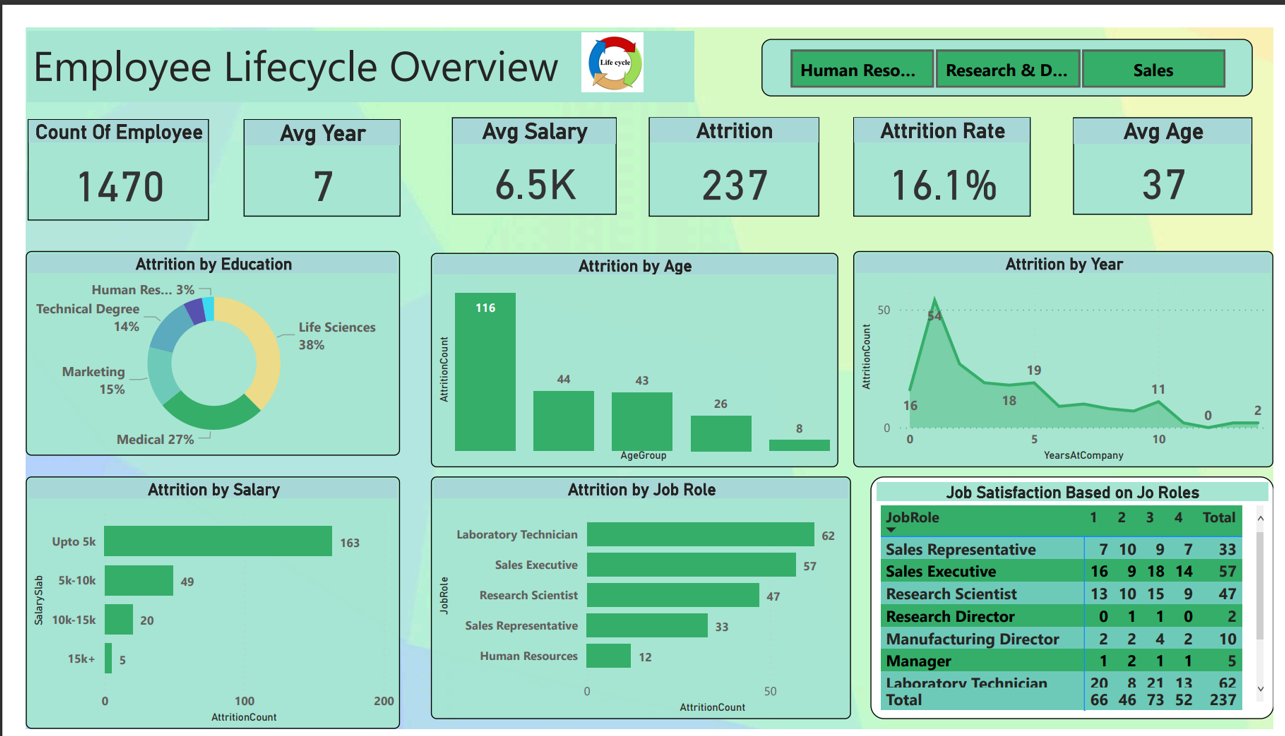

The dashboard page shown, as its layout file describes it:
{"tool":"powerbi","page":{"name":"Page 1","canvas":[1280,720],"ordinal":0},"visuals":[{"type":"card","title":"Count Of Employee","fields":{"Values":["Count(HR_Analytics.EmpID)"]},"box":[2,94.1,186.3,103.9],"z":0},{"type":"card","title":"Avg Year","fields":{"Values":["Avg(HR_Analytics.YearsAtCompany)"]},"box":[223.5,94.1,160.8,100],"z":1000},{"type":"card","title":"Attrition","fields":{"Values":["Sum(HR_Analytics.AttritionCount)"]},"box":[639.2,92.2,174.5,102],"z":2000},{"type":"card","title":"Attrition Rate","fields":{"Values":["HR_Analytics.AttritionRate"]},"box":[849,92.2,182.4,102],"z":3000},{"type":"card","title":"Avg Age","fields":{"Values":["Avg(HR_Analytics.Age)"]},"box":[1074.5,92.2,184.3,100],"z":4000},{"type":"card","title":"Avg Salary","fields":{"Values":["Avg(HR_Analytics.MonthlyIncome)"]},"box":[437.3,92.2,168.6,100],"z":5000},{"type":"donutChart","title":"Attrition by Education","fields":{"Category":["HR_Analytics.EducationField"],"Y":["Sum(HR_Analytics.AttritionCount)"]},"box":[0,229.4,384.3,209.8],"z":6000},{"type":"columnChart","title":"Attrition by Age","fields":{"Category":["HR_Analytics.AgeGroup"],"Y":["Sum(HR_Analytics.AttritionCount)"]},"box":[415.7,231.4,417.6,219.6],"z":7000},{"type":"barChart","title":"Attrition by Salary","fields":{"Category":["HR_Analytics.SalarySlab"],"Y":["Sum(HR_Analytics.AttritionCount)"]},"box":[0,460.8,384.3,258.8],"z":8000},{"type":"clusteredBarChart","title":"Attrition by Job Role","fields":{"Category":["HR_Analytics.JobRole"],"Y":["Sum(HR_Analytics.AttritionCount)"]},"box":[415.7,460.8,431.4,249],"z":9000},{"type":"pivotTable","title":"Job Satisfaction Based on Jo Roles","fields":{"Rows":["HR_Analytics.JobRole"],"Columns":["HR_Analytics.JobSatisfaction"],"Values":["Sum(HR_Analytics.AttritionCount)"]},"box":[866.7,460.8,413.7,249],"z":10000},{"type":"areaChart","title":"Attrition by Year","fields":{"Category":["HR_Analytics.YearsAtCompany"],"Y":["Sum(HR_Analytics.AttritionCount)"]},"box":[849,229.4,431.4,221.6],"z":10001},{"type":"textbox","box":[2,3.9,684.3,72.5],"z":10002},{"type":"slicer","fields":{"Values":["HR_Analytics.Department"]},"box":[754.9,11.8,503.9,58.8],"z":10003},{"type":"image","box":[476.5,0,251,70.6],"z":10004}]}

Visuals, with their boxes in screenshot pixels (x1, y1, x2, y2), scaled from the page's 1280x720 canvas onto the 1285x736 screenshot:
"Count Of Employee" card: rect(2, 96, 189, 202)
"Avg Year" card: rect(224, 96, 386, 198)
"Attrition" card: rect(642, 94, 817, 199)
"Attrition Rate" card: rect(852, 94, 1035, 199)
"Avg Age" card: rect(1079, 94, 1264, 196)
"Avg Salary" card: rect(439, 94, 608, 196)
"Attrition by Education" donutChart: rect(0, 234, 386, 449)
"Attrition by Age" columnChart: rect(417, 237, 837, 461)
"Attrition by Salary" barChart: rect(0, 471, 386, 735)
"Attrition by Job Role" clusteredBarChart: rect(417, 471, 850, 726)
"Job Satisfaction Based on Jo Roles" pivotTable: rect(870, 471, 1284, 726)
"Attrition by Year" areaChart: rect(852, 234, 1284, 461)
textbox: rect(2, 4, 689, 78)
slicer - HR_Analytics.Department: rect(758, 12, 1264, 72)
image: rect(478, 0, 730, 72)
